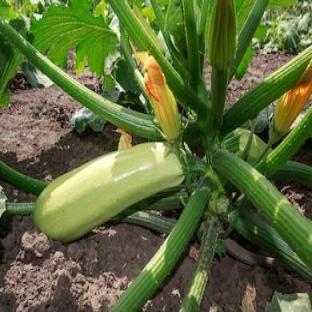Zucchini: (33, 143, 183, 241)
